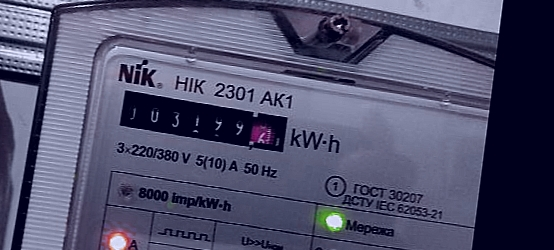0: (124, 98, 139, 120), (147, 101, 162, 122)
1: (191, 106, 203, 126)
3: (169, 106, 182, 127)
6: (256, 126, 268, 143)
9: (232, 114, 246, 135), (212, 110, 225, 131)
screen: (111, 82, 298, 159)
